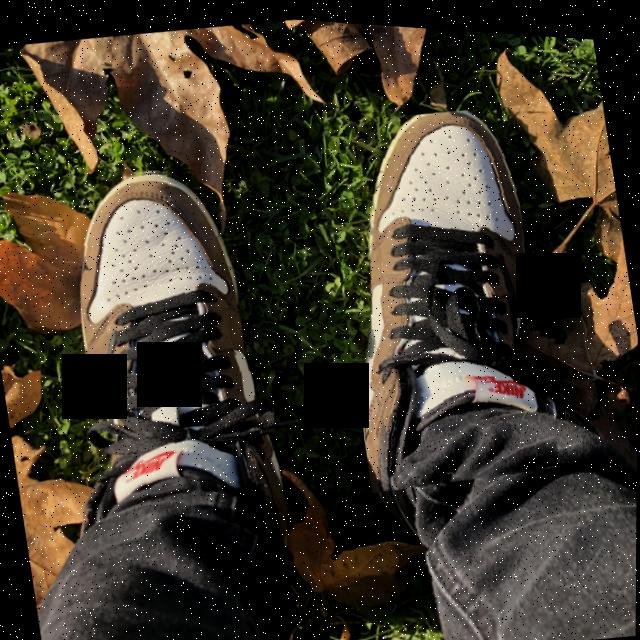shoe: (315, 86, 585, 500), (46, 149, 292, 542)
